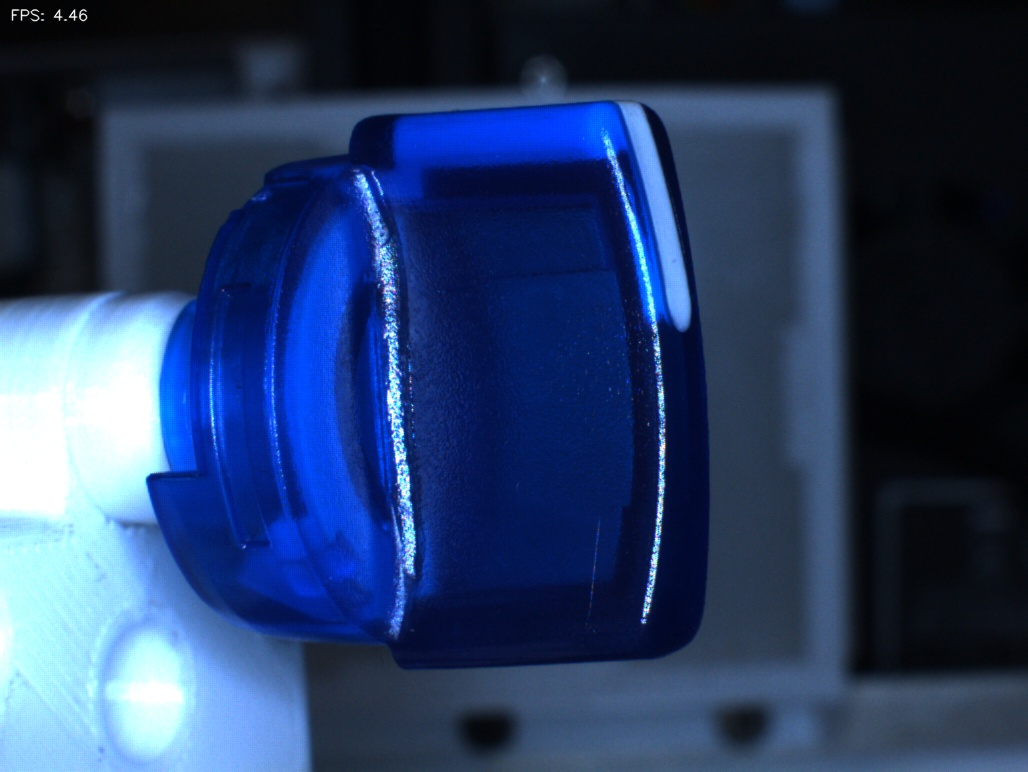Givrage: (559, 491, 632, 647)
